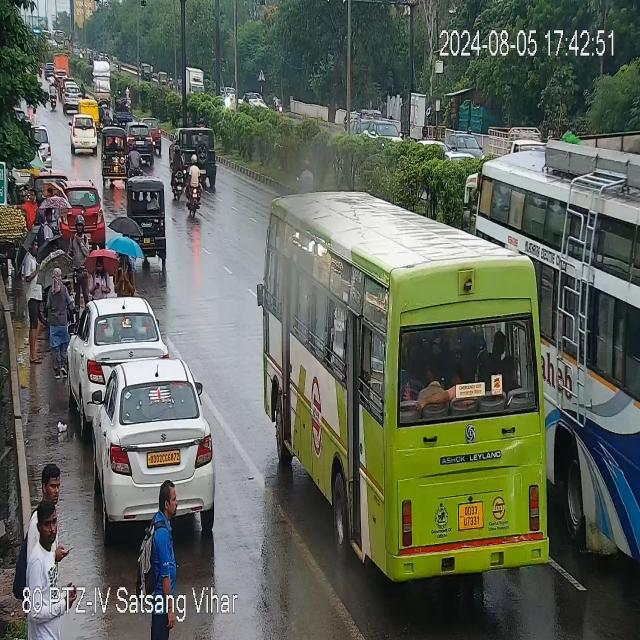2-wheelers: (185, 153, 200, 215), (172, 146, 185, 207), (130, 143, 142, 179), (50, 82, 58, 109), (104, 110, 112, 128), (99, 102, 105, 121), (168, 70, 173, 89), (178, 74, 182, 94), (81, 84, 85, 98)
auto: (122, 176, 173, 258), (104, 128, 129, 178), (112, 91, 133, 122), (80, 100, 98, 120), (140, 64, 152, 81), (158, 72, 166, 85)
bus: (258, 180, 546, 583), (485, 135, 640, 581)
car: (90, 357, 220, 522), (70, 298, 162, 400), (63, 181, 108, 241), (349, 112, 411, 139), (70, 113, 101, 154), (200, 126, 218, 188), (36, 125, 56, 177), (127, 122, 151, 148), (146, 116, 162, 154), (168, 127, 190, 149), (62, 84, 80, 110), (44, 61, 55, 81)
pedestrian: (27, 460, 69, 561), (146, 478, 183, 578), (24, 238, 44, 363), (49, 265, 70, 375), (26, 190, 60, 240), (72, 215, 89, 311), (114, 236, 140, 297), (91, 252, 110, 297)
truck: (487, 123, 538, 154), (92, 60, 113, 102), (186, 67, 207, 98), (298, 160, 314, 187), (53, 50, 69, 70), (276, 98, 284, 115)
